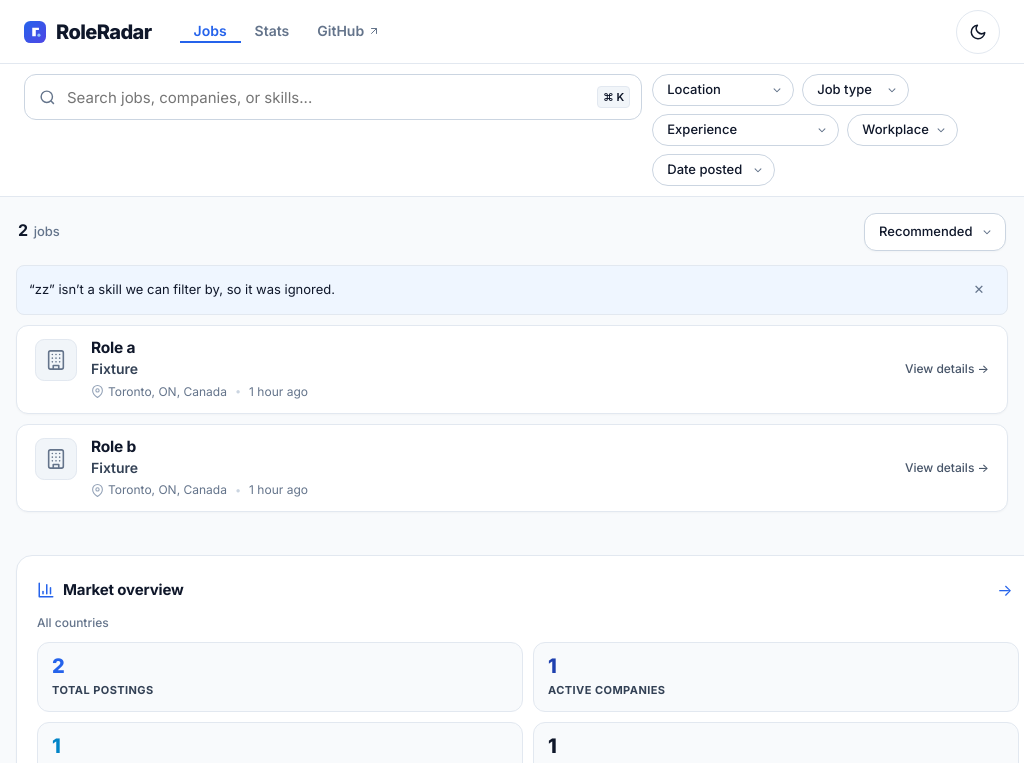
Test: skill filter from the URL › the notice goes away when the reader changes anything
expect the message "“zz” isn’t a skill we can filter by, so it was ignored. ✕" is shown: met, box top-left (16, 265), bottom-right (1008, 315)
Type "x" into the search field at point(333, 97), box top-left (24, 74), bottom-right (642, 120)
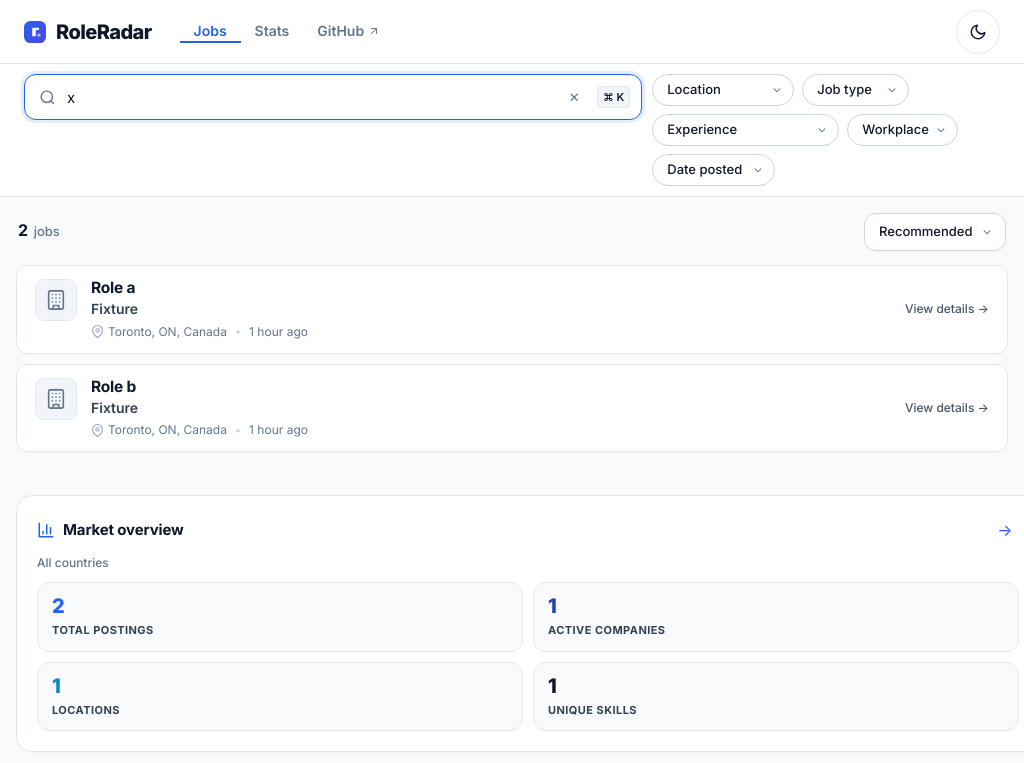
expect the message with test id "ignored-skill-notice" is gone: met
